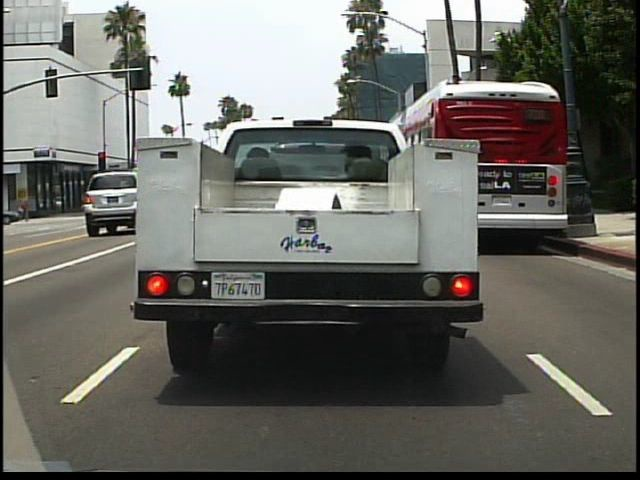person: (19, 192, 34, 226)
